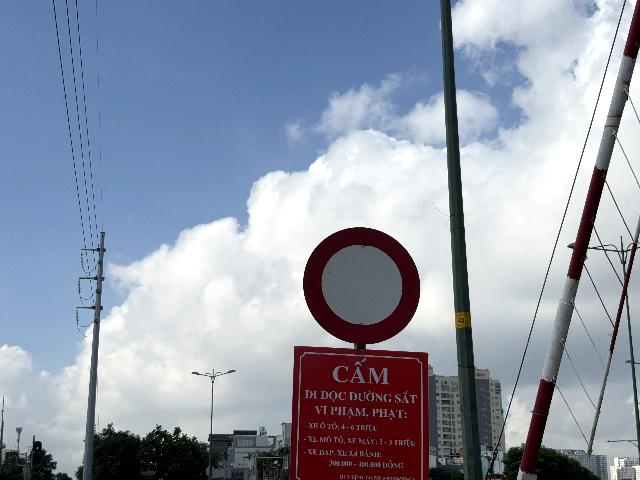duong-cam: (303, 227, 421, 344)
